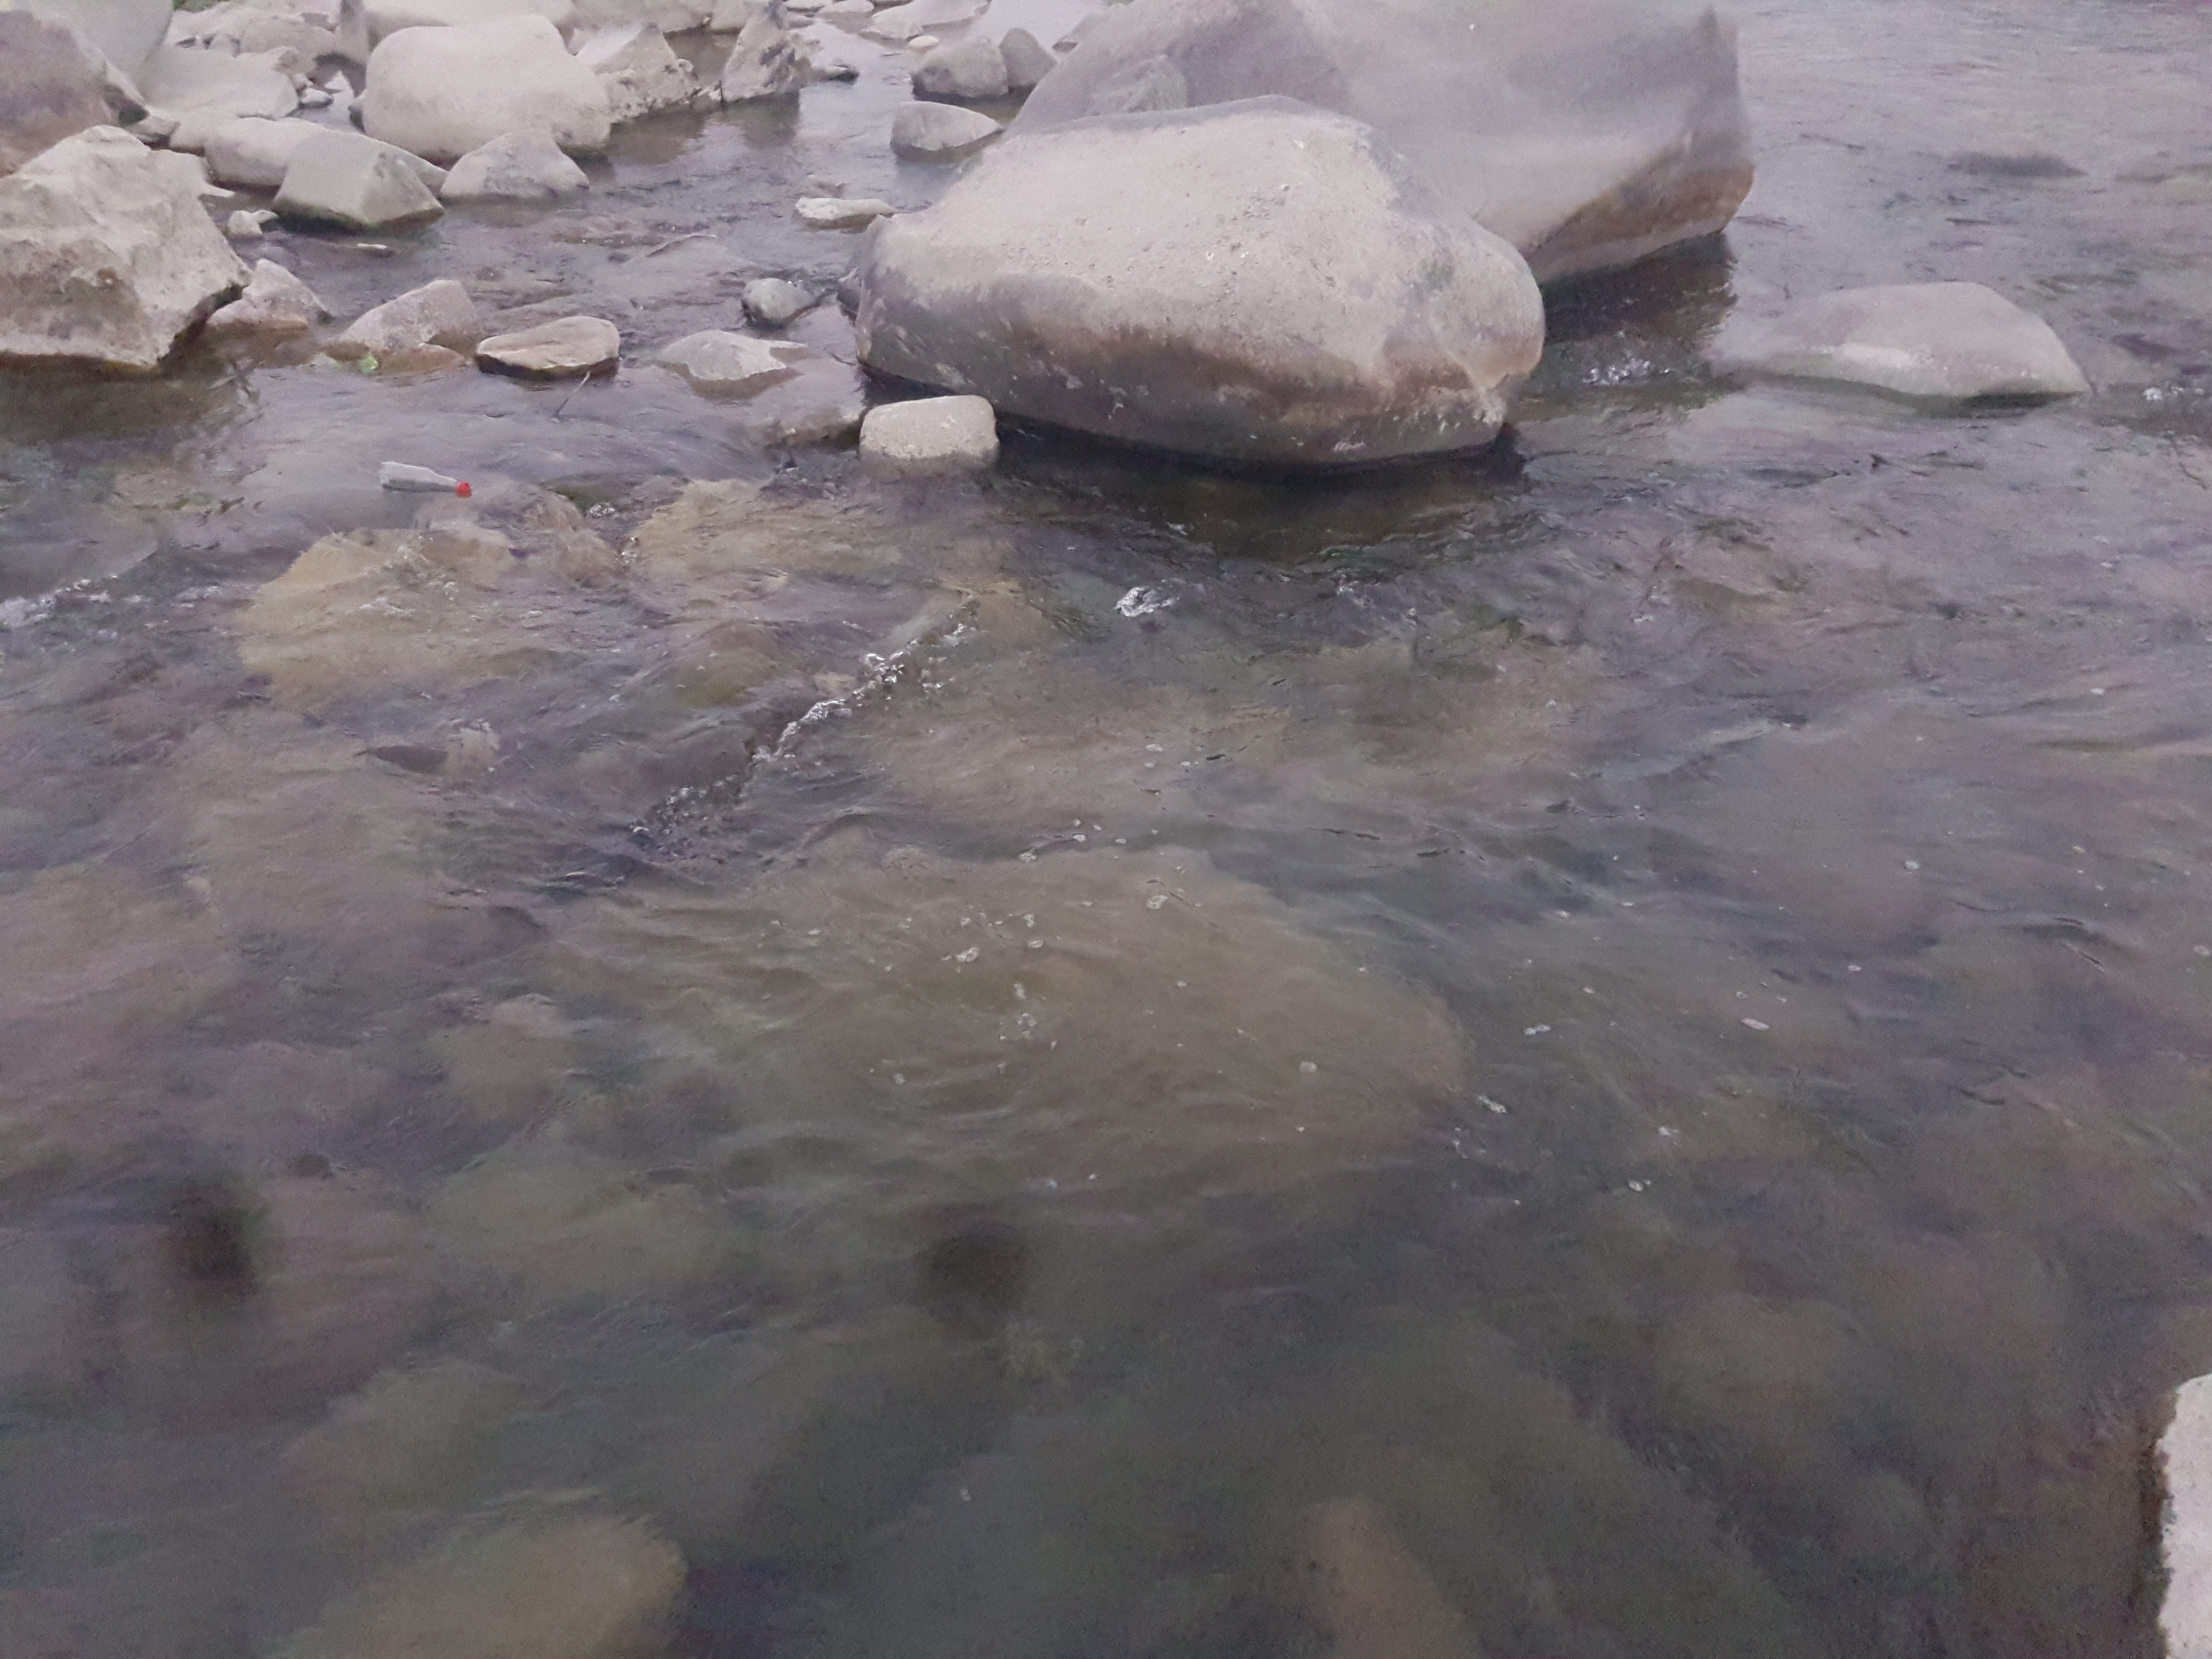Plastic Bottle: (380, 460, 470, 493)
